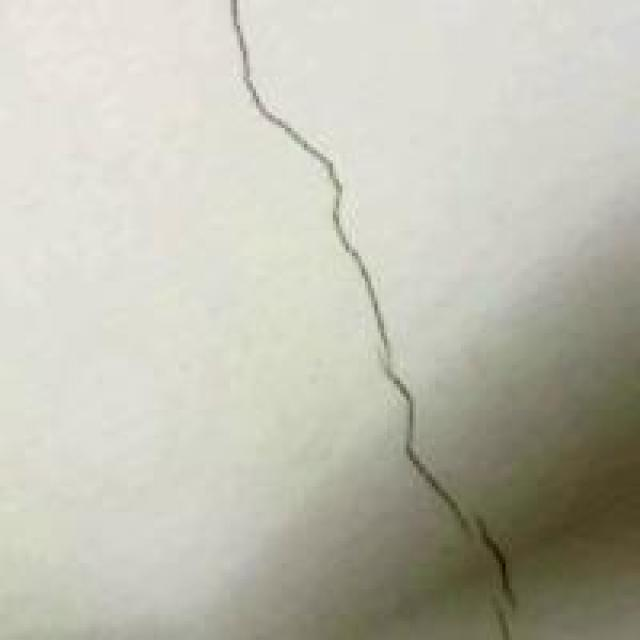crack: (190, 0, 544, 640)
